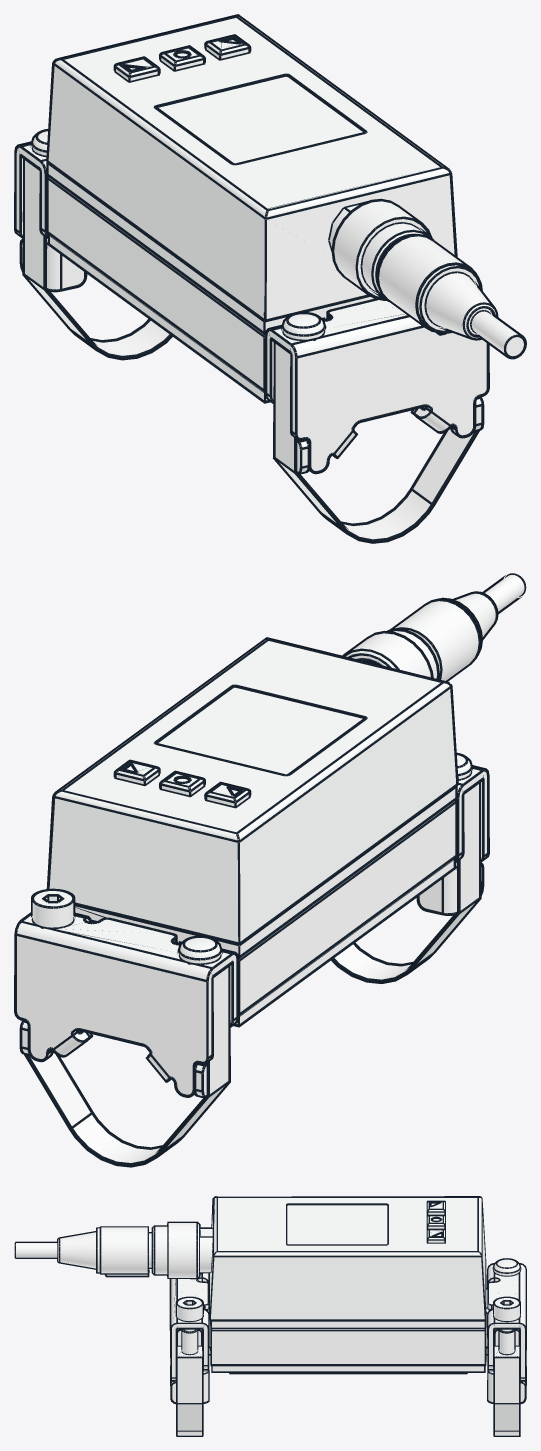
File: PFUW760-L1.outline.glb
3 renders of one model, top to bottom at view 1: azimuth 30°, elevation 25°; view 2: azimuth 150°, elevation 25°; view 3: azimuth 270°, elevation 25°, orthographic. The views are drawn at different scales.
Visible parts, largest first — view 1: PFUW7_BODY, PFUW7_BRACKET1_60, ZS-37-A, PFUW7_BRACKET2_60; view 2: PFUW7_BODY, PFUW7_BRACKET2_60, ZS-37-A, PFUW7_BRACKET1_60; view 3: PFUW7_BODY, ZS-37-A, PFUW7_BRACKET2_60, PFUW7_BRACKET1_60.
Boxes of the visible parts, bbox=[...] form: PFUW7_BODY: bbox=[46, 14, 457, 403]; PFUW7_BRACKET1_60: bbox=[264, 299, 489, 543]; ZS-37-A: bbox=[331, 198, 526, 359]; PFUW7_BRACKET2_60: bbox=[14, 129, 172, 360]; PFUW7_BODY: bbox=[46, 637, 458, 1027]; PFUW7_BRACKET2_60: bbox=[14, 888, 239, 1167]; ZS-37-A: bbox=[342, 573, 526, 681]; PFUW7_BRACKET1_60: bbox=[331, 752, 489, 983]; PFUW7_BODY: bbox=[177, 1196, 519, 1374]; ZS-37-A: bbox=[14, 1221, 200, 1279]; PFUW7_BRACKET2_60: bbox=[487, 1258, 526, 1436]; PFUW7_BRACKET1_60: bbox=[169, 1273, 209, 1436].
Size of the model in its own units: 38.75 by 64.36 by 139.
